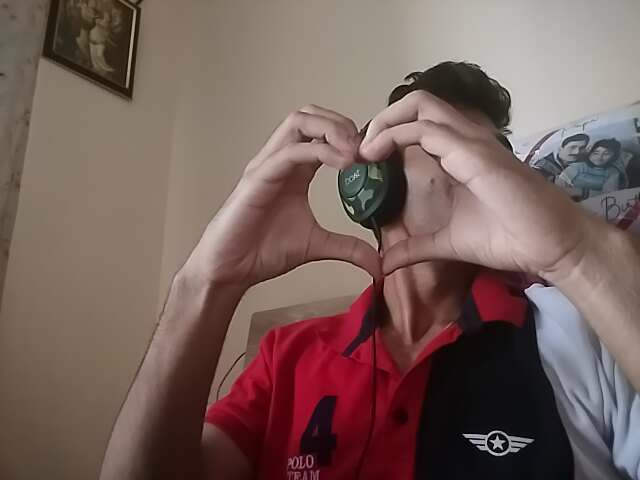I Love You: (132, 67, 596, 331)
